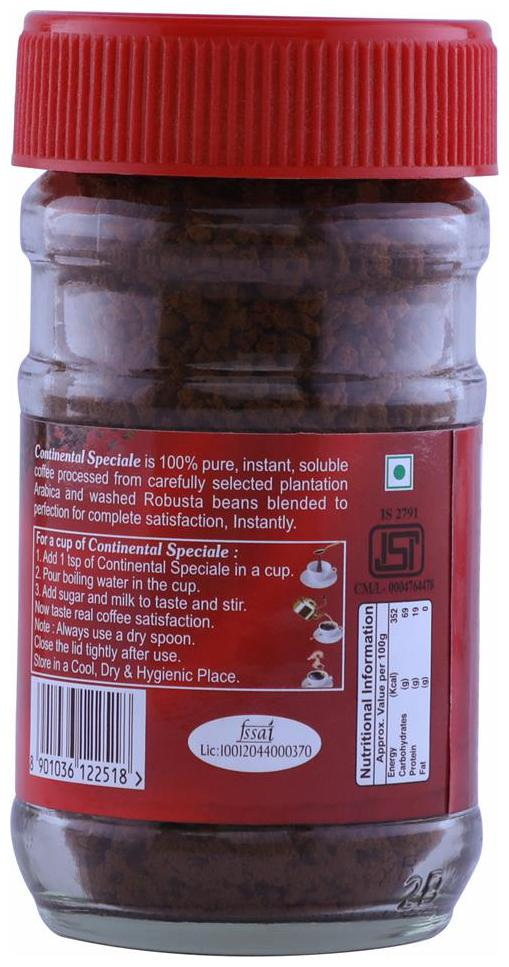fssai: (234, 718, 278, 743)
